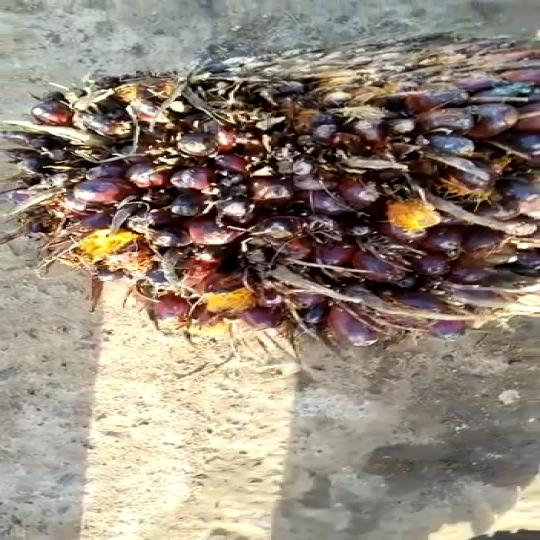masak: (13, 39, 540, 348)
